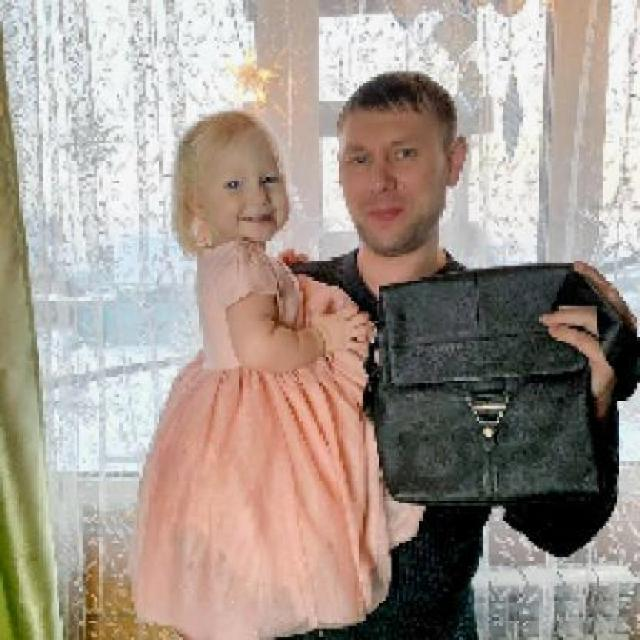child: (128, 108, 381, 638)
